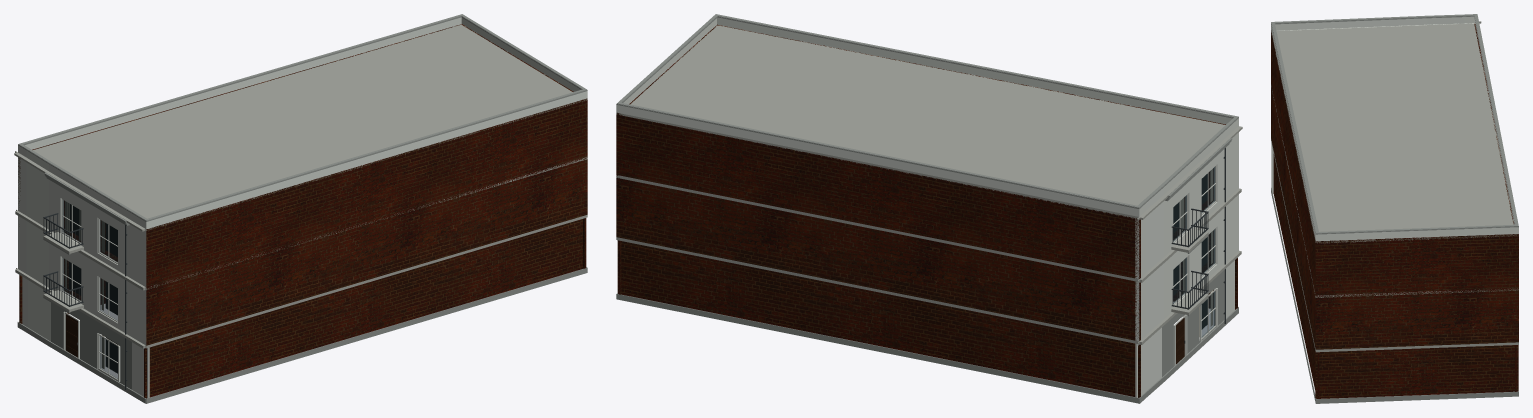
Rendered from building.glb.
3 views of the same model, side by side, from view 1: azimuth 30°, elevation 25°; view 2: azimuth 150°, elevation 25°; view 3: azimuth 270°, elevation 25° (orthographic). The views are drawn at different scales.
Parts seen in each view (by area): view 1: main:0/edge4/z0/main:0/edge4/z0/wall_1_0, roof/main:0/roof_slab#0001, main:0/edge4/z0/main:0/edge4/z0/wall_0_0, roof/main:0/parapet#0001, main:0/edge2/z0/main:0/edge2/z0/wall_1_0, roof/main:0/parapet_cap#0002, main:0/edge4/z0/plinth#0001, main:0/edge1/z0/main:0/edge1/z0/wall_1_0, main:0/edge2/z0/main:0/edge2/z0/coating_0_0_0, roof/main:0/parapet_cap#0001, main:0/edge3/z0/main:0/edge3/z0/wall_1_0, main:0/edge4/z0/floor_slab#0001 (+11 smaller); view 2: main:0/edge6/z0/main:0/edge6/z0/wall_1_0/core0, roof/main:0/roof_slab#0001, main:0/edge6/z0/main:0/edge6/z0/wall_0_0/core0, roof/main:0/parapet#0001, main:0/edge2/z0/main:0/edge2/z0/wall_1_0, roof/main:0/parapet_cap#0002, main:0/edge6/z0/plinth#0001, main:0/edge1/z0/main:0/edge1/z0/wall_1_0, roof/main:0/parapet_cap#0001, main:0/edge6/z0/floor_slab#0002, main:0/edge6/z0/floor_slab#0001, main:0/edge2/z0/main:0/edge2/z0/coating_0_0_0 (+6 smaller); view 3: roof/main:0/roof_slab#0001, main:0/edge5/z0/main:0/edge5/z0/wall_1_0, main:0/edge5/z0/main:0/edge5/z0/wall_0_0, main:0/edge4/z0/main:0/edge4/z0/wall_1_0, roof/main:0/parapet#0001, roof/main:0/parapet_cap#0002, main:0/edge4/z0/main:0/edge4/z0/wall_0_0, roof/main:0/parapet_cap#0001, main:0/edge5/z0/plinth#0001, main:0/edge5/z0/floor_slab#0001, main:0/edge4/z0/plinth#0001, main:0/edge5/z0/floor_slab#0002 (+2 smaller).
Part boxes in pixels (x1,y1,x2,y2): main:0/edge4/z0/main:0/edge4/z0/wall_1_0: (146,98,587,345); roof/main:0/roof_slab#0001: (33,24,578,228); main:0/edge4/z0/main:0/edge4/z0/wall_0_0: (144,218,586,398); roof/main:0/parapet#0001: (18,17,587,229); main:0/edge2/z0/main:0/edge2/z0/wall_1_0: (49,180,129,335); roof/main:0/parapet_cap#0002: (18,14,586,220); main:0/edge4/z0/plinth#0001: (146,268,587,403); main:0/edge1/z0/main:0/edge1/z0/wall_1_0: (26,162,48,287); main:0/edge2/z0/main:0/edge2/z0/coating_0_0_0: (51,302,131,389); roof/main:0/parapet_cap#0001: (18,16,587,221); main:0/edge3/z0/main:0/edge3/z0/wall_1_0: (130,224,146,345); main:0/edge4/z0/floor_slab#0001: (146,215,587,348); main:0/edge6/z0/main:0/edge6/z0/wall_1_0/core0: (616,112,1139,340); roof/main:0/roof_slab#0001: (630,25,1225,218); main:0/edge6/z0/main:0/edge6/z0/wall_0_0/core0: (617,240,1140,397); roof/main:0/parapet#0001: (616,17,1238,216); main:0/edge2/z0/main:0/edge2/z0/wall_1_0: (1164,147,1226,318); roof/main:0/parapet_cap#0002: (617,14,1238,207); main:0/edge6/z0/plinth#0001: (616,294,1139,403); main:0/edge1/z0/main:0/edge1/z0/wall_1_0: (1145,201,1164,335); roof/main:0/parapet_cap#0001: (616,16,1238,208); main:0/edge6/z0/floor_slab#0002: (616,175,1139,283); main:0/edge6/z0/floor_slab#0001: (616,237,1139,345); main:0/edge2/z0/main:0/edge2/z0/coating_0_0_0: (1162,270,1224,376); roof/main:0/roof_slab#0001: (1271,23,1515,243); main:0/edge5/z0/main:0/edge5/z0/wall_1_0: (1315,234,1518,349); main:0/edge5/z0/main:0/edge5/z0/wall_0_0: (1315,345,1518,398); main:0/edge4/z0/main:0/edge4/z0/wall_1_0: (1271,30,1315,348); roof/main:0/parapet#0001: (1271,16,1518,241); roof/main:0/parapet_cap#0002: (1271,14,1518,233); main:0/edge4/z0/main:0/edge4/z0/wall_0_0: (1273,154,1319,398); roof/main:0/parapet_cap#0001: (1271,14,1518,234); main:0/edge5/z0/plinth#0001: (1315,391,1518,403); main:0/edge5/z0/floor_slab#0001: (1316,342,1518,352); main:0/edge4/z0/plinth#0001: (1271,188,1316,402); main:0/edge5/z0/floor_slab#0002: (1316,288,1518,297).
Bounding box in the file's own units: 28.39 × 10.07 × 13.26.
Materials: 10 (2 with a texture image).
